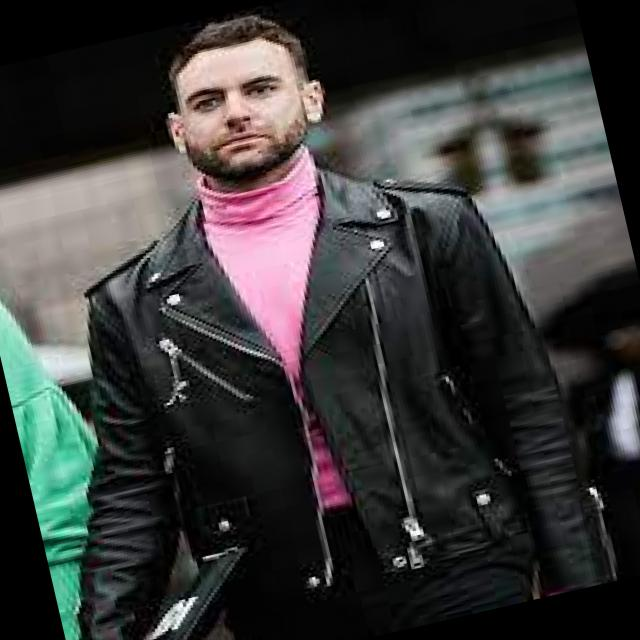Jacket: (0, 120, 640, 640)
